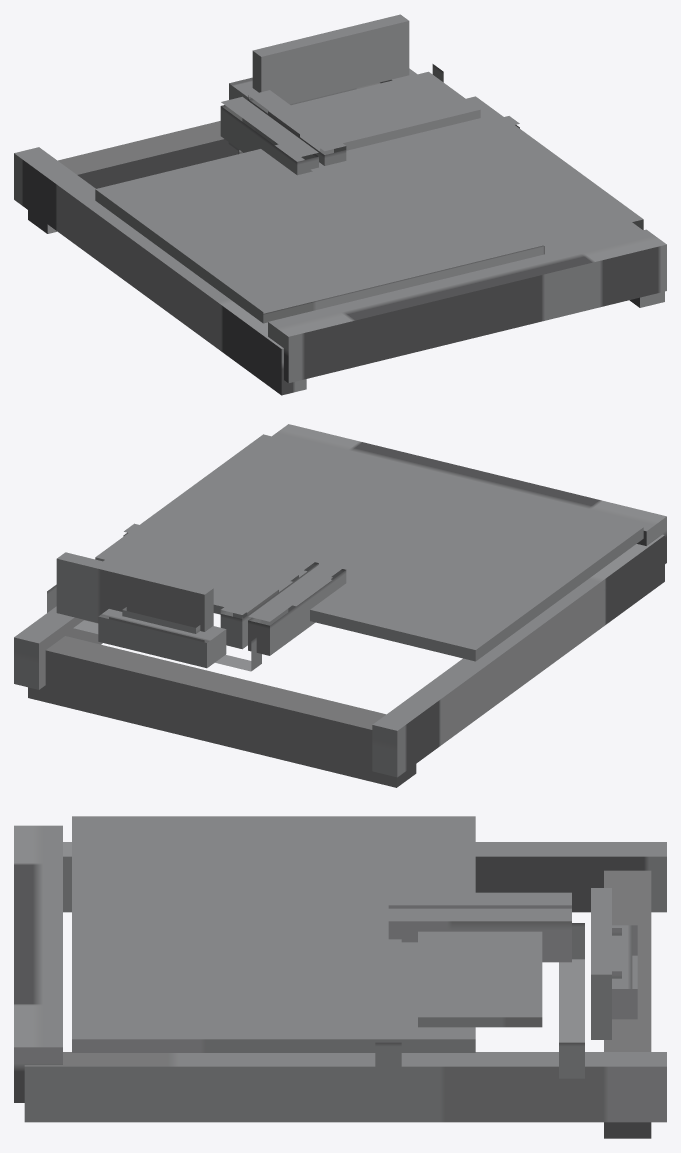
The picture shows the model from 3 angles, top to bottom: view 1: azimuth 30°, elevation 25°; view 2: azimuth 150°, elevation 25°; view 3: azimuth 270°, elevation 25°; orthographic projection. The views are drawn at different scales.
Size of the model in its own units: 0.8135 by 0.2635 by 0.9965.
